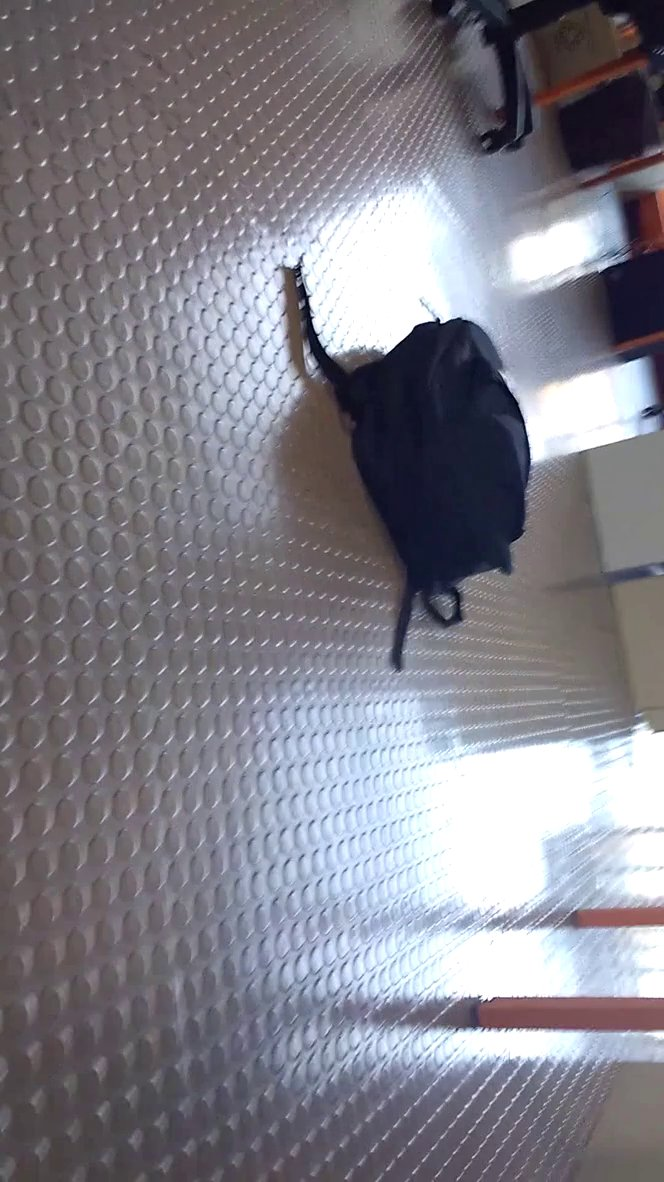bag: (292, 257, 552, 679)
